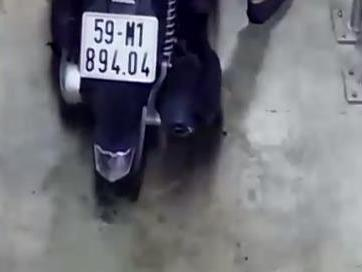num_plate: (80, 12, 157, 81)
